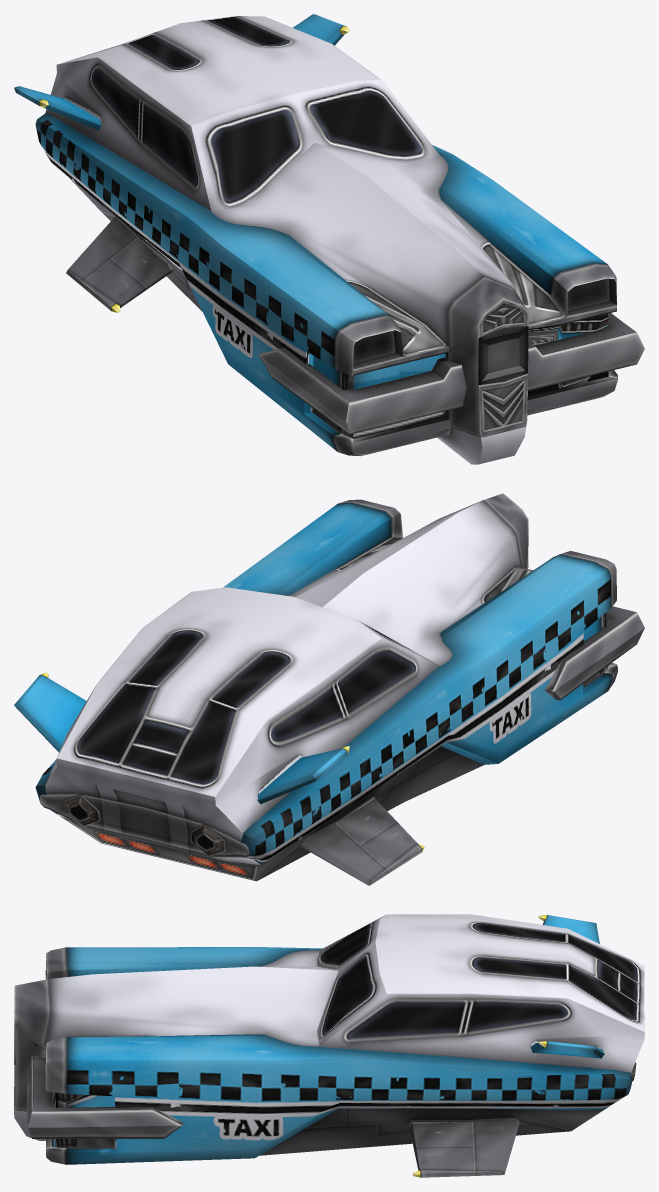
The model's file is JpXwind_low.FBX.
The picture shows the model from 3 angles, top to bottom: view 1: azimuth 30°, elevation 25°; view 2: azimuth 150°, elevation 25°; view 3: azimuth 270°, elevation 25°; orthographic projection. The views are drawn at different scales.
Parts seen in each view (by area): view 1: JpXwind; view 2: JpXwind; view 3: JpXwind.
Part boxes in pixels (bbox=[...]): JpXwind: bbox=[14, 14, 644, 464]; JpXwind: bbox=[14, 493, 644, 885]; JpXwind: bbox=[14, 914, 644, 1177].
Bounding box in the file's own units: 1.61 × 1.11 × 3.3.
